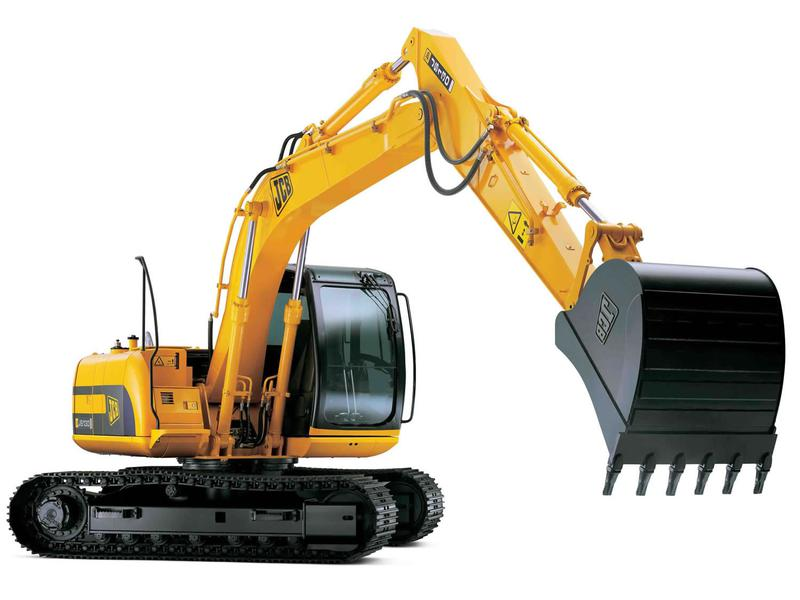shovel: (1, 22, 792, 572)
